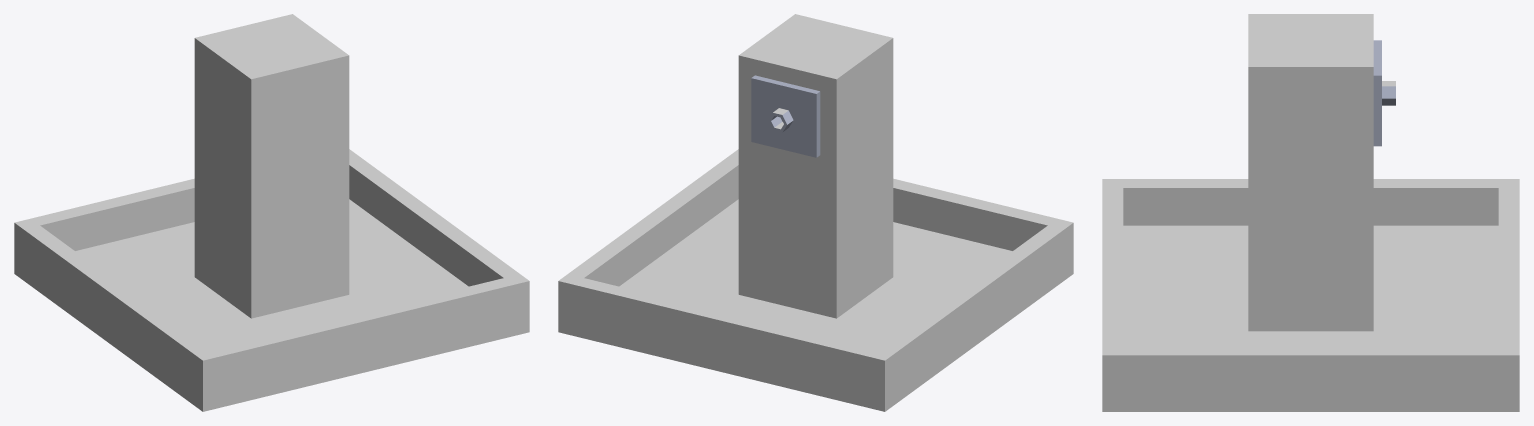
File: fountain.fbx
The picture shows the model from 3 angles, left to right: view 1: azimuth 30°, elevation 25°; view 2: azimuth 150°, elevation 25°; view 3: azimuth 270°, elevation 25°; orthographic projection. The views are drawn at different scales.
Visible parts, largest first — view 1: bassin_goulet_low_neu; view 2: bassin_goulet_low_neu; view 3: bassin_goulet_low_neu.
Part boxes in pixels (<box>): bassin_goulet_low_neu: <box>14,14,529,411</box>; bassin_goulet_low_neu: <box>558,14,1073,411</box>; bassin_goulet_low_neu: <box>1102,14,1519,411</box>.
Size of the model in its own units: 200 by 150 by 200.
